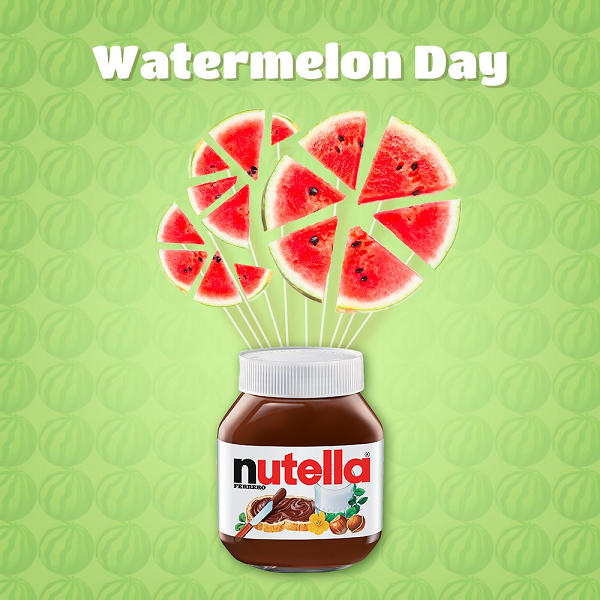nutella: (217, 347, 386, 572)
